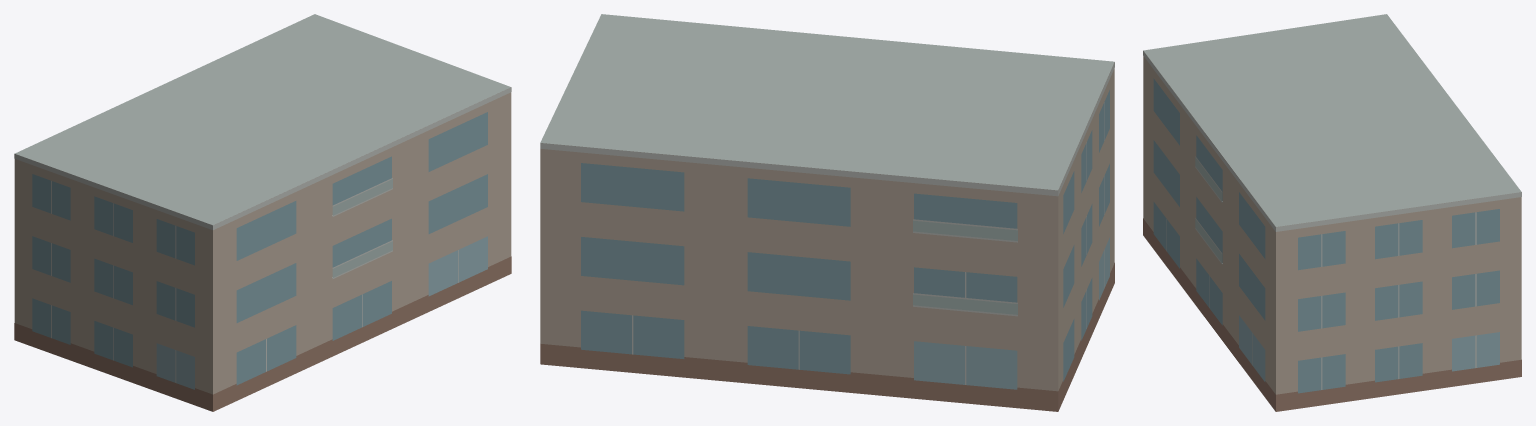
File: survey-upis-32973442.glb
The picture shows the model from 3 angles, left to right: view 1: azimuth 30°, elevation 25°; view 2: azimuth 150°, elevation 25°; view 3: azimuth 270°, elevation 25°; orthographic projection. The views are drawn at different scales.
Visible parts, largest first — view 1: survey-upis-32973442.tmp; view 2: survey-upis-32973442.tmp; view 3: survey-upis-32973442.tmp.
Part boxes in pixels (x1,y1,x2,y2): survey-upis-32973442.tmp: (14,14,511,411); survey-upis-32973442.tmp: (540,14,1114,411); survey-upis-32973442.tmp: (1143,14,1521,411).
Size of the model in its own units: 22.64 by 9.15 by 17.
